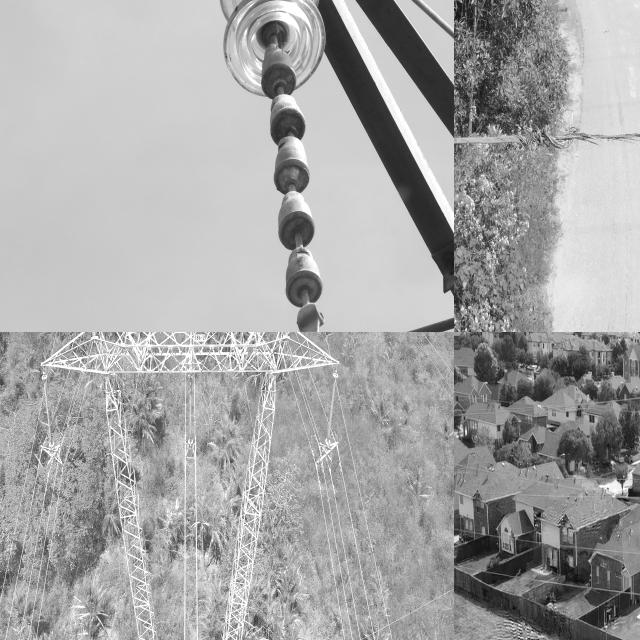杆塔: (41, 332, 343, 640)
正常绝缘子: (215, 0, 335, 332), (40, 370, 55, 451), (325, 370, 339, 448), (187, 372, 195, 447)
电缆破损: (509, 116, 640, 169)
绝缘子破损: (278, 208, 315, 264), (274, 155, 310, 207), (270, 110, 308, 152), (262, 59, 297, 104), (286, 268, 320, 308)
